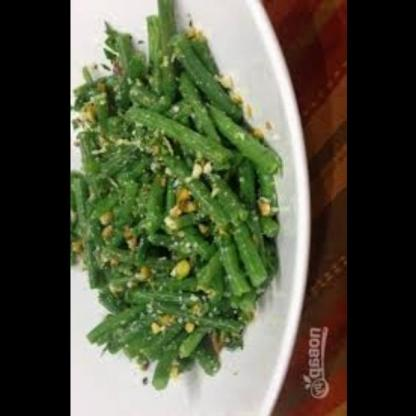fasol: (69, 12, 290, 388)
